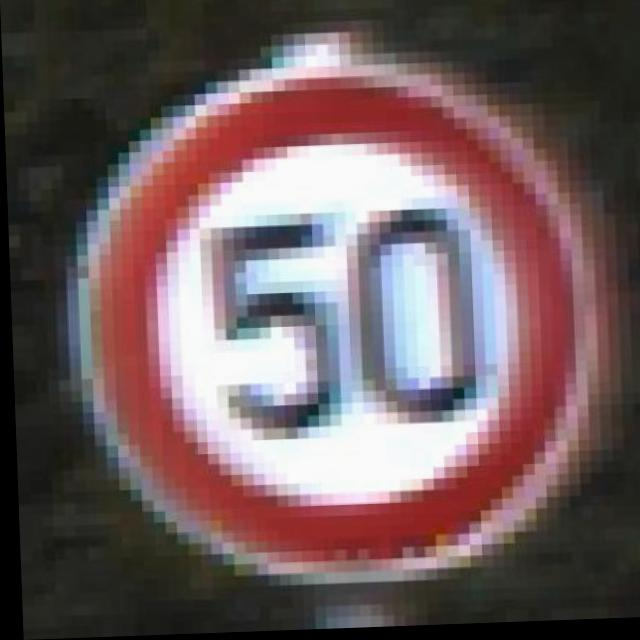Speed limit 50: (68, 28, 621, 591)
